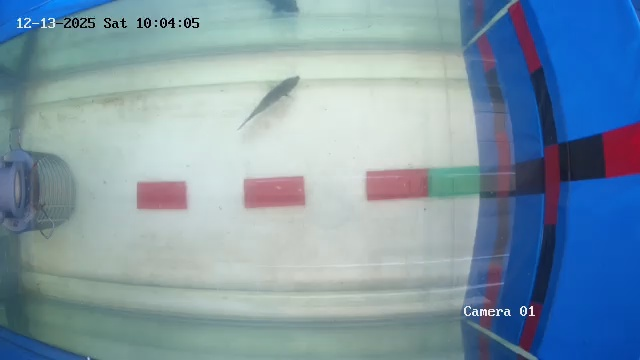fish: (249, 70, 303, 120)
